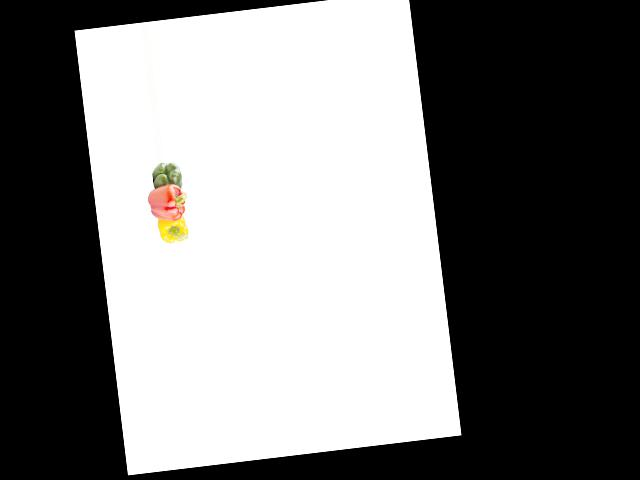bell_pepper: (151, 212, 192, 247)
